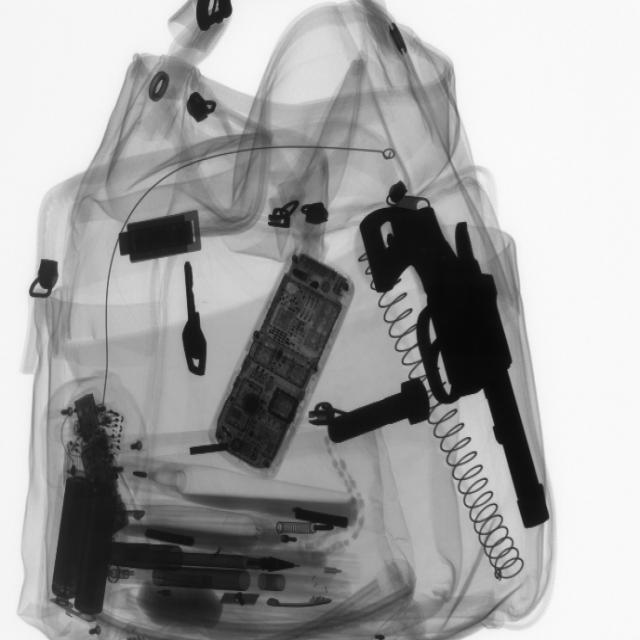GUN: (359, 192, 553, 542)
